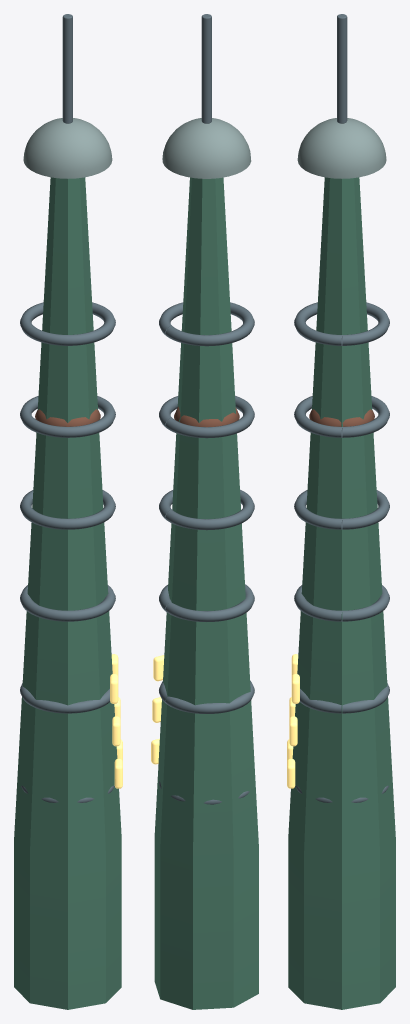
3 renders of one model, left to right at view 1: azimuth 90°, elevation 25°; view 2: azimuth 210°, elevation 25°; view 3: azimuth 270°, elevation 25°, orthographic.
Parts seen in each view (by area): view 1: Tapered spire, Sensor pickup cap, Sensor mast collar.007, Sensor mast collar.006, Sensor mast collar.005, Sensor mast collar.004, Aerial stem, Sensor mast collar.003, Spire collar; view 2: Tapered spire, Sensor pickup cap, Sensor mast collar.007, Sensor mast collar.006, Sensor mast collar.005, Sensor mast collar.004, Aerial stem, Sensor mast collar.003, Spire collar; view 3: Tapered spire, Sensor pickup cap, Sensor mast collar.007, Sensor mast collar.006, Sensor mast collar.005, Sensor mast collar.004, Aerial stem, Sensor mast collar.003, Spire collar.
Part boxes in pixels (x1,y1,x2,y2): Tapered spire: [14, 177, 121, 1009]; Sensor pickup cap: [23, 118, 112, 178]; Sensor mast collar.007: [20, 302, 115, 345]; Sensor mast collar.006: [20, 396, 115, 437]; Sensor mast collar.005: [20, 490, 115, 529]; Sensor mast collar.004: [20, 585, 115, 621]; Aerial stem: [62, 14, 72, 123]; Sensor mast collar.003: [20, 683, 110, 713]; Spire collar: [35, 409, 100, 426]; Tapered spire: [154, 177, 258, 1009]; Sensor pickup cap: [162, 118, 251, 178]; Sensor mast collar.007: [159, 302, 254, 346]; Sensor mast collar.006: [159, 395, 254, 438]; Sensor mast collar.005: [159, 489, 254, 530]; Sensor mast collar.004: [159, 584, 254, 621]; Aerial stem: [201, 14, 211, 123]; Sensor mast collar.003: [159, 680, 254, 713]; Spire collar: [174, 406, 239, 427]; Tapered spire: [288, 177, 395, 1009]; Sensor pickup cap: [297, 118, 386, 178]; Sensor mast collar.007: [294, 302, 389, 345]; Sensor mast collar.006: [294, 396, 389, 437]; Sensor mast collar.005: [294, 490, 389, 529]; Sensor mast collar.004: [294, 585, 389, 621]; Aerial stem: [337, 14, 347, 123]; Sensor mast collar.003: [299, 683, 389, 713]; Spire collar: [309, 409, 374, 426].
Bounding box in the file's own units: 0.46 × 4.58 × 0.4649.
